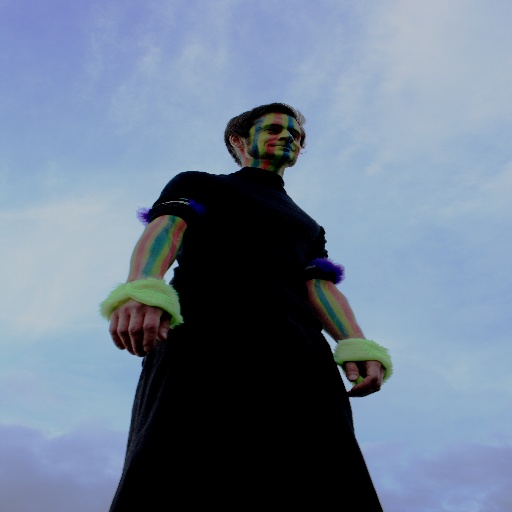hand: (107, 278, 178, 363), (345, 359, 387, 398)
